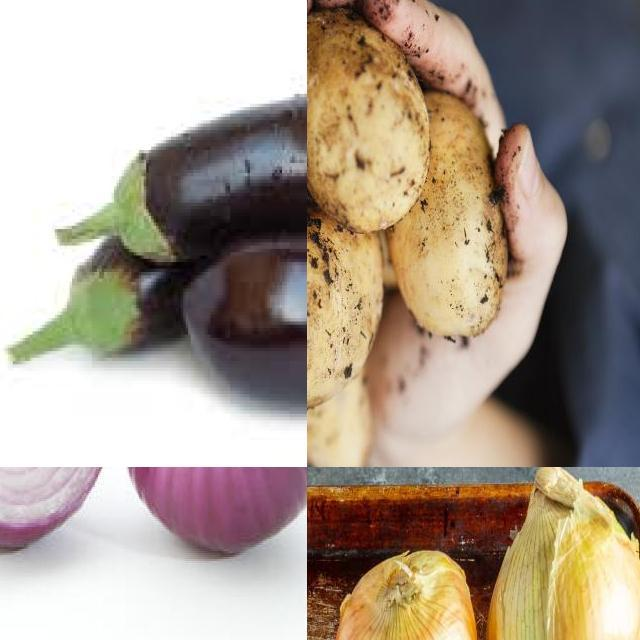eggplant: (127, 65, 308, 259), (179, 230, 308, 408)
onion: (485, 472, 640, 640), (114, 468, 308, 559), (332, 546, 479, 640)
potato: (389, 86, 507, 341), (308, 8, 429, 234), (308, 215, 386, 415), (308, 371, 369, 468)
